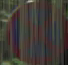No Stopping: (5, 4, 62, 58)
